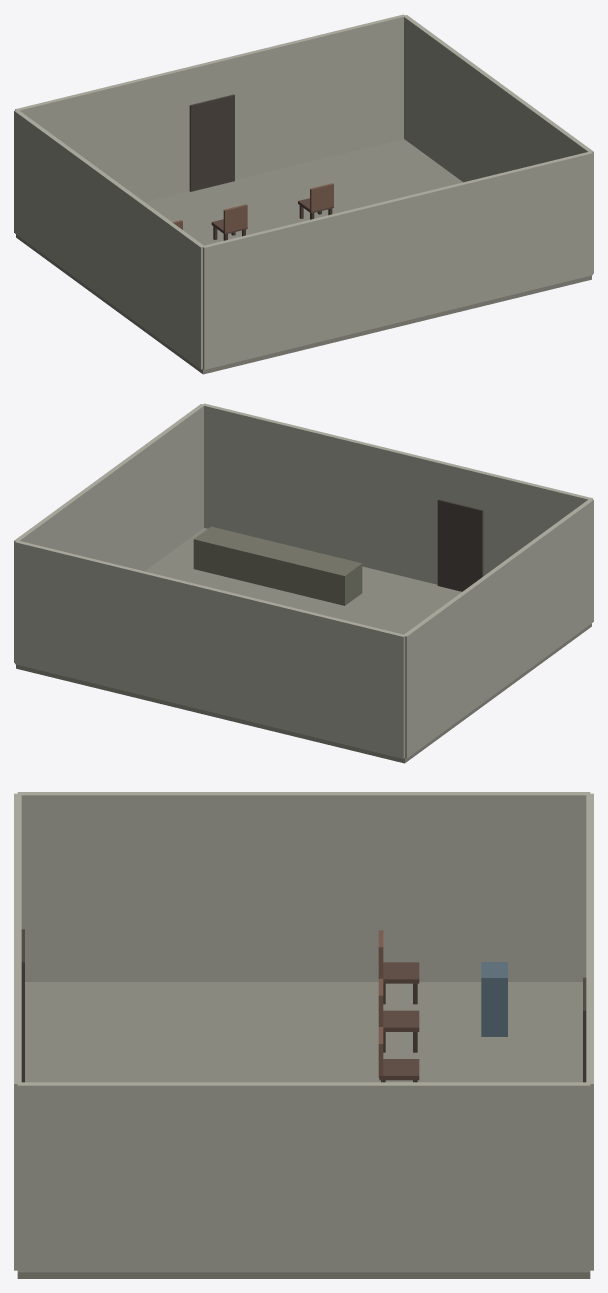
Rendered from archivoRecepcion.obj.
3 views of the same model, one above another, from view 1: azimuth 30°, elevation 25°; view 2: azimuth 150°, elevation 25°; view 3: azimuth 270°, elevation 25° (orthographic). The views are drawn at different scales.
Visible parts, largest first — view 1: Pared_de_fondo, Pared_lateral, Muro_de_entrada, Suelo, Puerta_SALIDA, Silla; view 2: Muro_de_entrada, Pared_lateral, Pared_de_fondo, Suelo, Mostrador, Puerta_CONSULTA; view 3: Pared_lateral, Suelo, Silla, Muro_de_entrada, Pared_de_fondo, Máquina_de_turnos.
Part boxes in pixels (x1,y1,x2,y2): Pared_de_fondo: (202,151,592,369); Pared_lateral: (14,15,593,369); Muro_de_entrada: (15,14,404,201); Suelo: (16,139,591,374); Puerta_SALIDA: (189,94,234,191); Silla: (172,183,333,240); Muro_de_entrada: (15,540,405,758); Pared_lateral: (14,404,593,758); Pared_de_fondo: (203,403,592,584); Suelo: (16,528,591,763); Mostrador: (193,526,362,605); Puerta_CONSULTA: (437,499,483,591); Pared_lateral: (17,792,590,1272); Suelo: (17,982,590,1278); Silla: (378,930,419,1082); Muro_de_entrada: (586,793,593,1270); Pared_de_fondo: (14,793,21,1270); Máquina_de_turnos: (481,962,507,1036).
Bounding box in the file's own units: 18.2 × 5.64 × 15.2.
